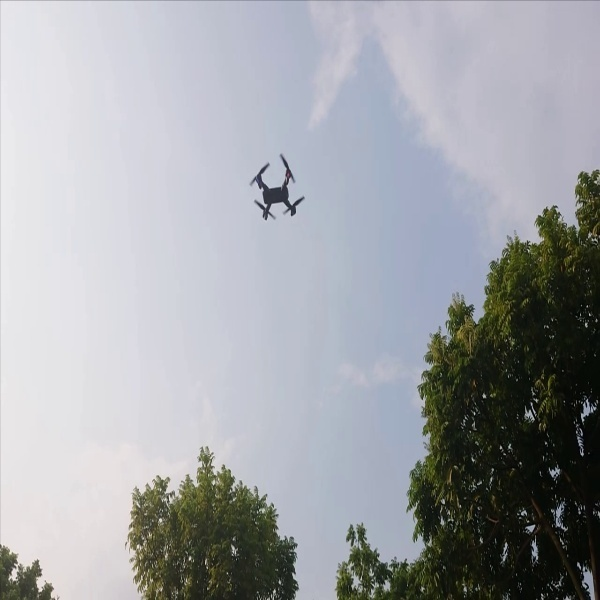drone: (246, 149, 308, 229)
